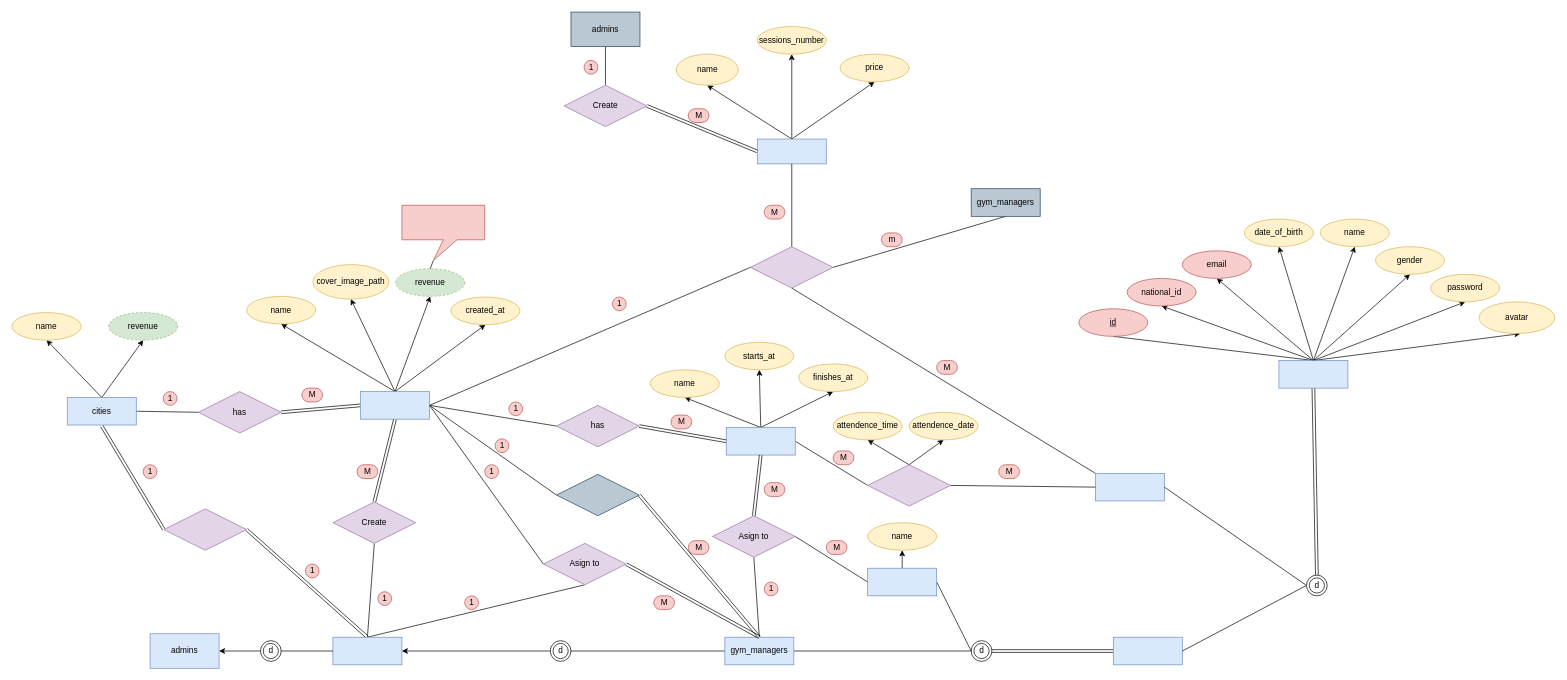
Image size: 1567x680. Some labels were removed from this diagram. The box of each missing label's shape, as (x1, y1, x2, y2) in pixels:
attends: (867, 464, 950, 506)
belongs to: (556, 474, 639, 516)
city_managers: (332, 637, 402, 665)
coaches: (867, 568, 937, 596)
employee: (1113, 637, 1182, 665)
gyms: (360, 391, 430, 419)
Manage: (163, 508, 247, 550)
Person: (1278, 360, 1348, 388)
purchases: (750, 246, 833, 288)
Think about it: (401, 205, 485, 260)
training_package: (757, 138, 826, 164)
training_sessions: (726, 427, 795, 455)
user: (1095, 473, 1164, 501)
